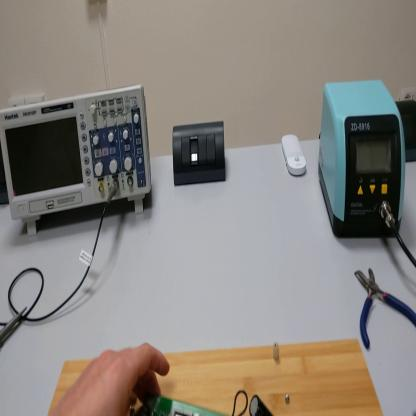hand: (55, 342, 170, 416)
high voltage board: (130, 392, 272, 416)
oscilloscope: (1, 84, 154, 235)
oscilloscope probe tip: (1, 304, 29, 351)
pliers: (354, 266, 416, 354)
socket: (397, 102, 416, 165), (2, 145, 10, 205)
welder station: (321, 83, 407, 241)
working area: (52, 338, 385, 416)
